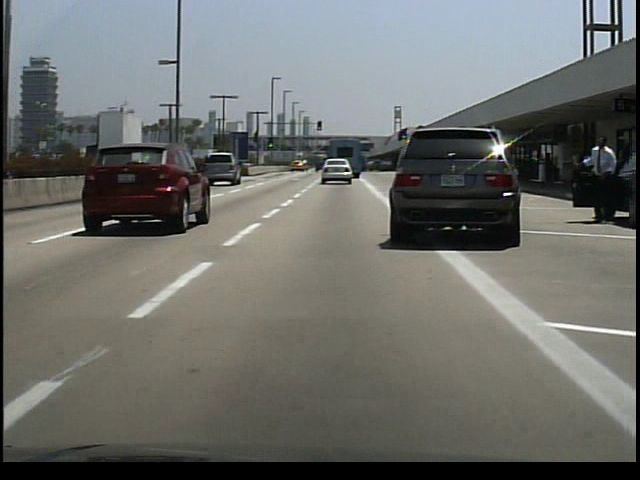person: (574, 132, 616, 226)
